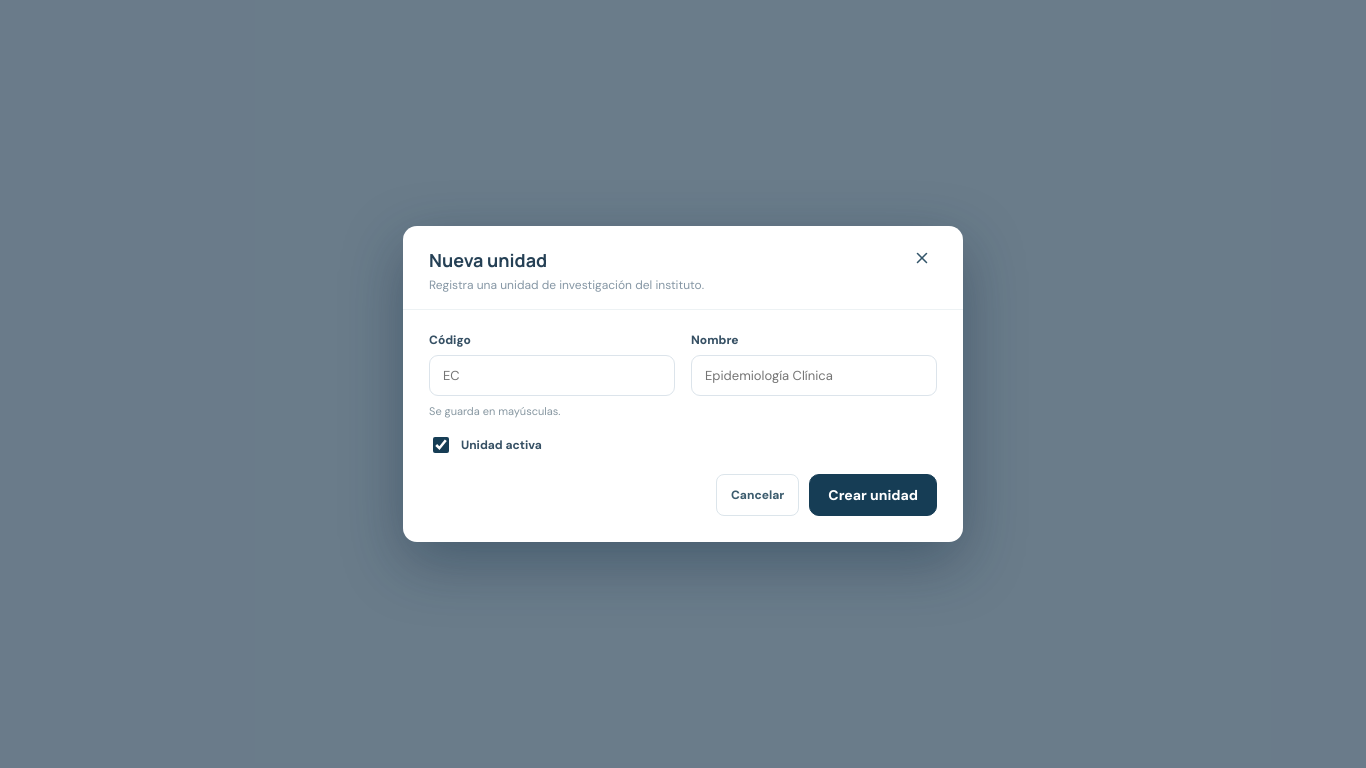
UnitFormModal › muestra bajo el campo el error de validación que devuelve el servidor
The width and height of the screenshot is (1366, 768).
Type "ES" into the field labelled "Código Se guarda en mayúsculas.". click: (552, 376)
box: 429,355 -> 675,396
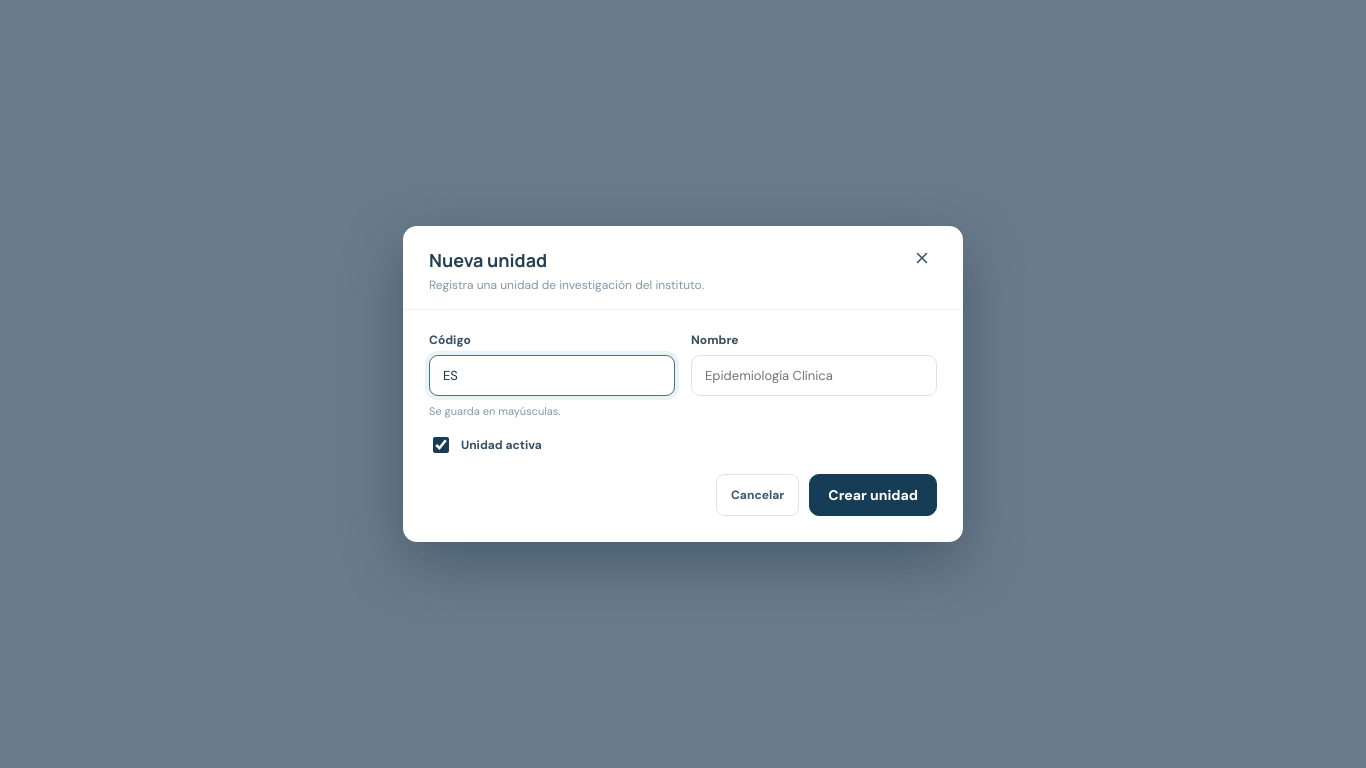
Type "Otra unidad" into the field labelled "Nombre". click: (814, 376)
box: 691,355 -> 937,396
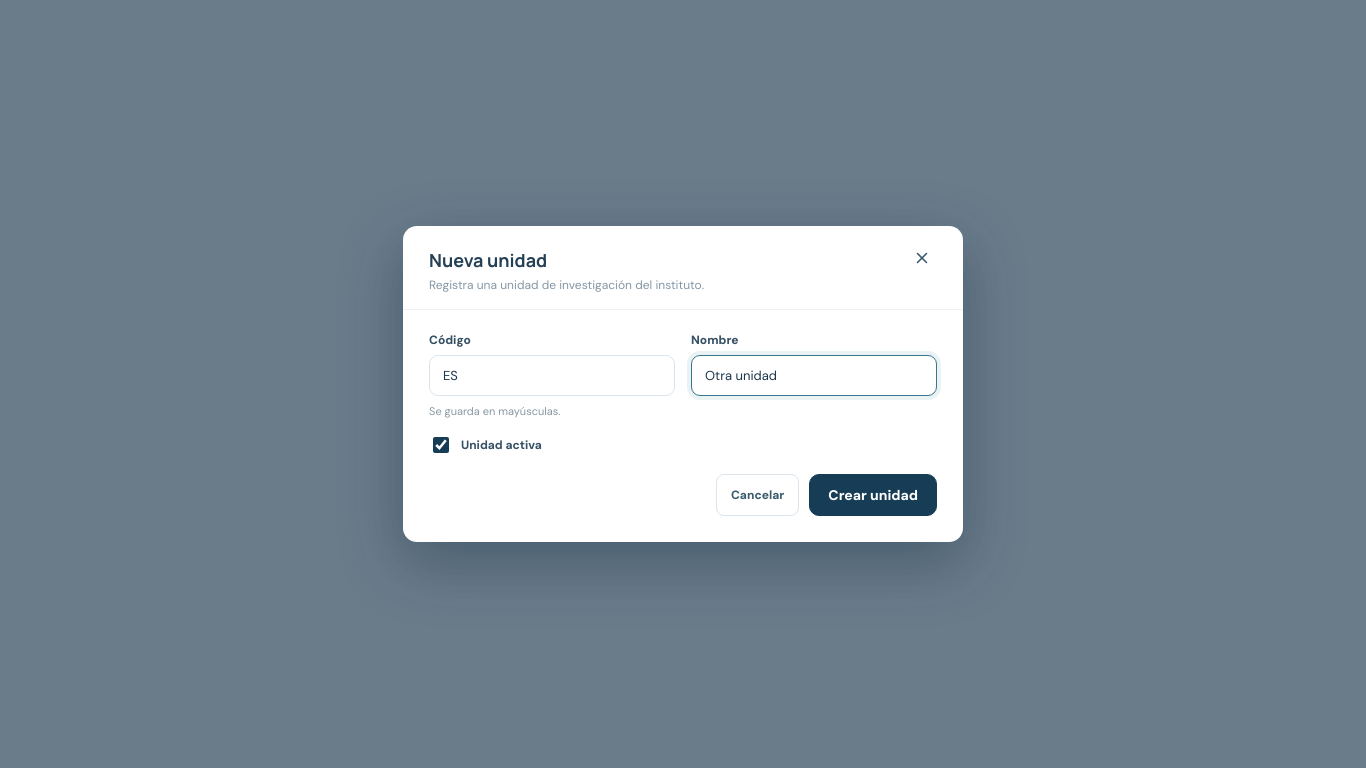
Click the button "Crear unidad". click: (873, 495)
box: 809,474 -> 937,516
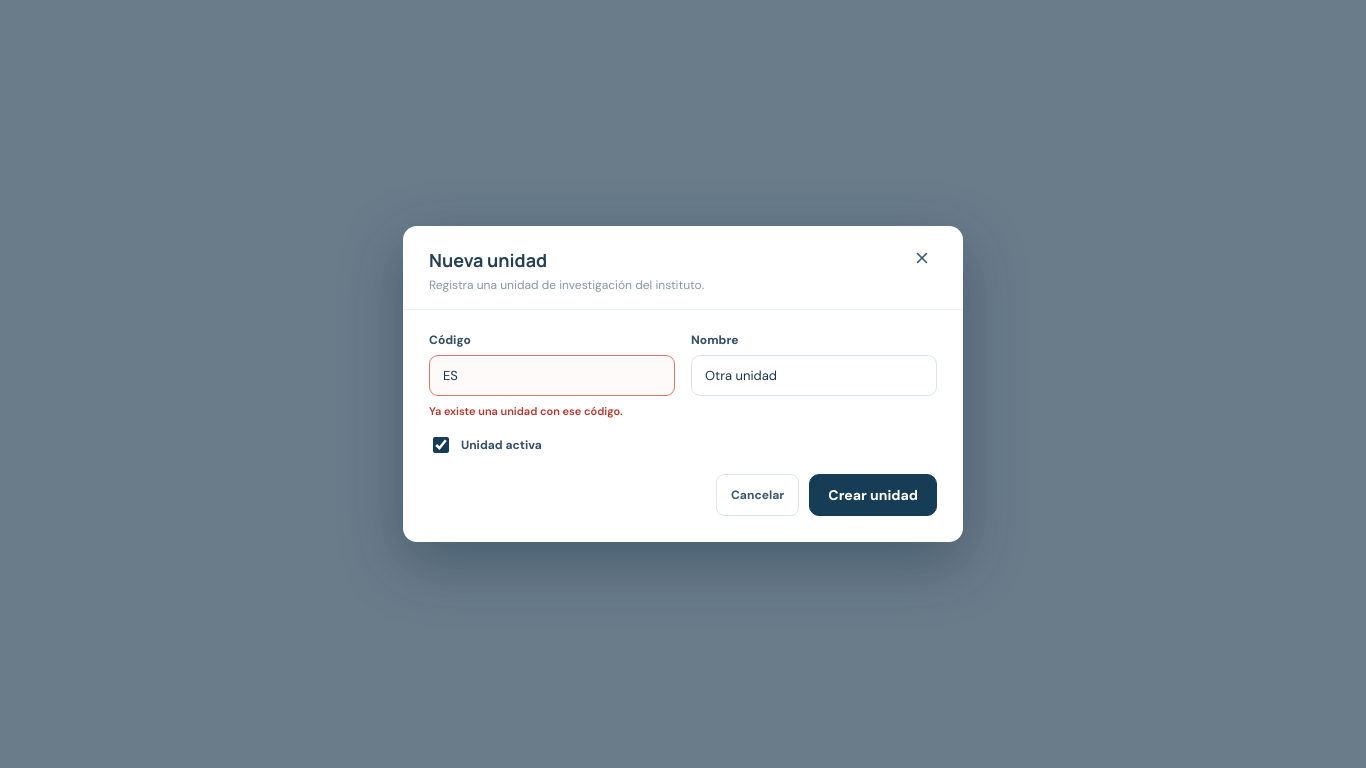
Expected: the text "Ya existe una unidad con ese código." is shown, 429,404 -> 623,418
